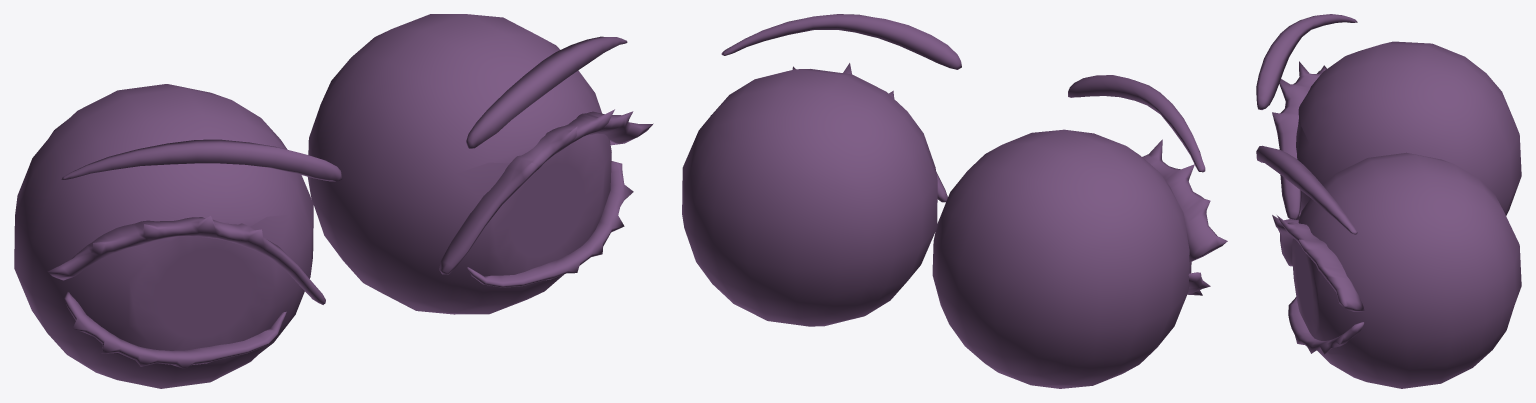
Rendered from m_eyes_01.fbx.
3 renders of one model, left to right at view 1: azimuth 30°, elevation 25°; view 2: azimuth 150°, elevation 25°; view 3: azimuth 270°, elevation 25°, orthographic. The views are drawn at different scales.
Parts seen in each view (by area): view 1: m_eyes_01; view 2: m_eyes_01; view 3: m_eyes_01.
Part boxes in pixels (x1,y1,x2,y2): m_eyes_01: (14,14,653,388); m_eyes_01: (682,14,1227,388); m_eyes_01: (1256,14,1521,388).
Size of the model in its own units: 13.31 by 6.05 by 6.5.
